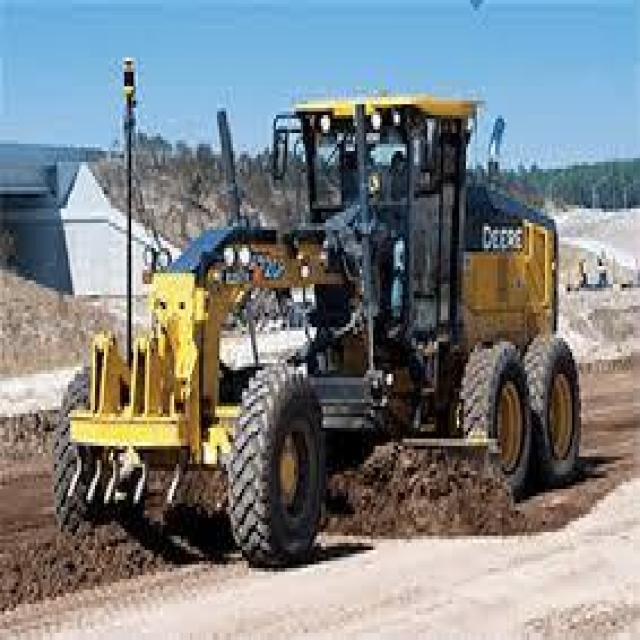buldozerpayloadergrader: (50, 54, 606, 579)
